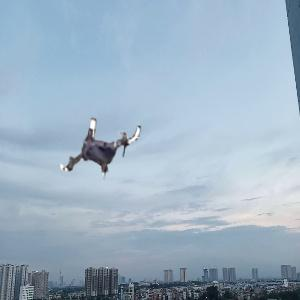drone: (57, 106, 145, 194)
